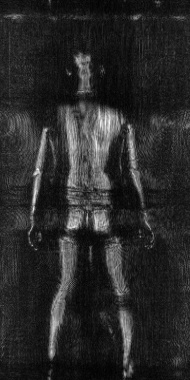gun: (100, 308, 122, 343)
